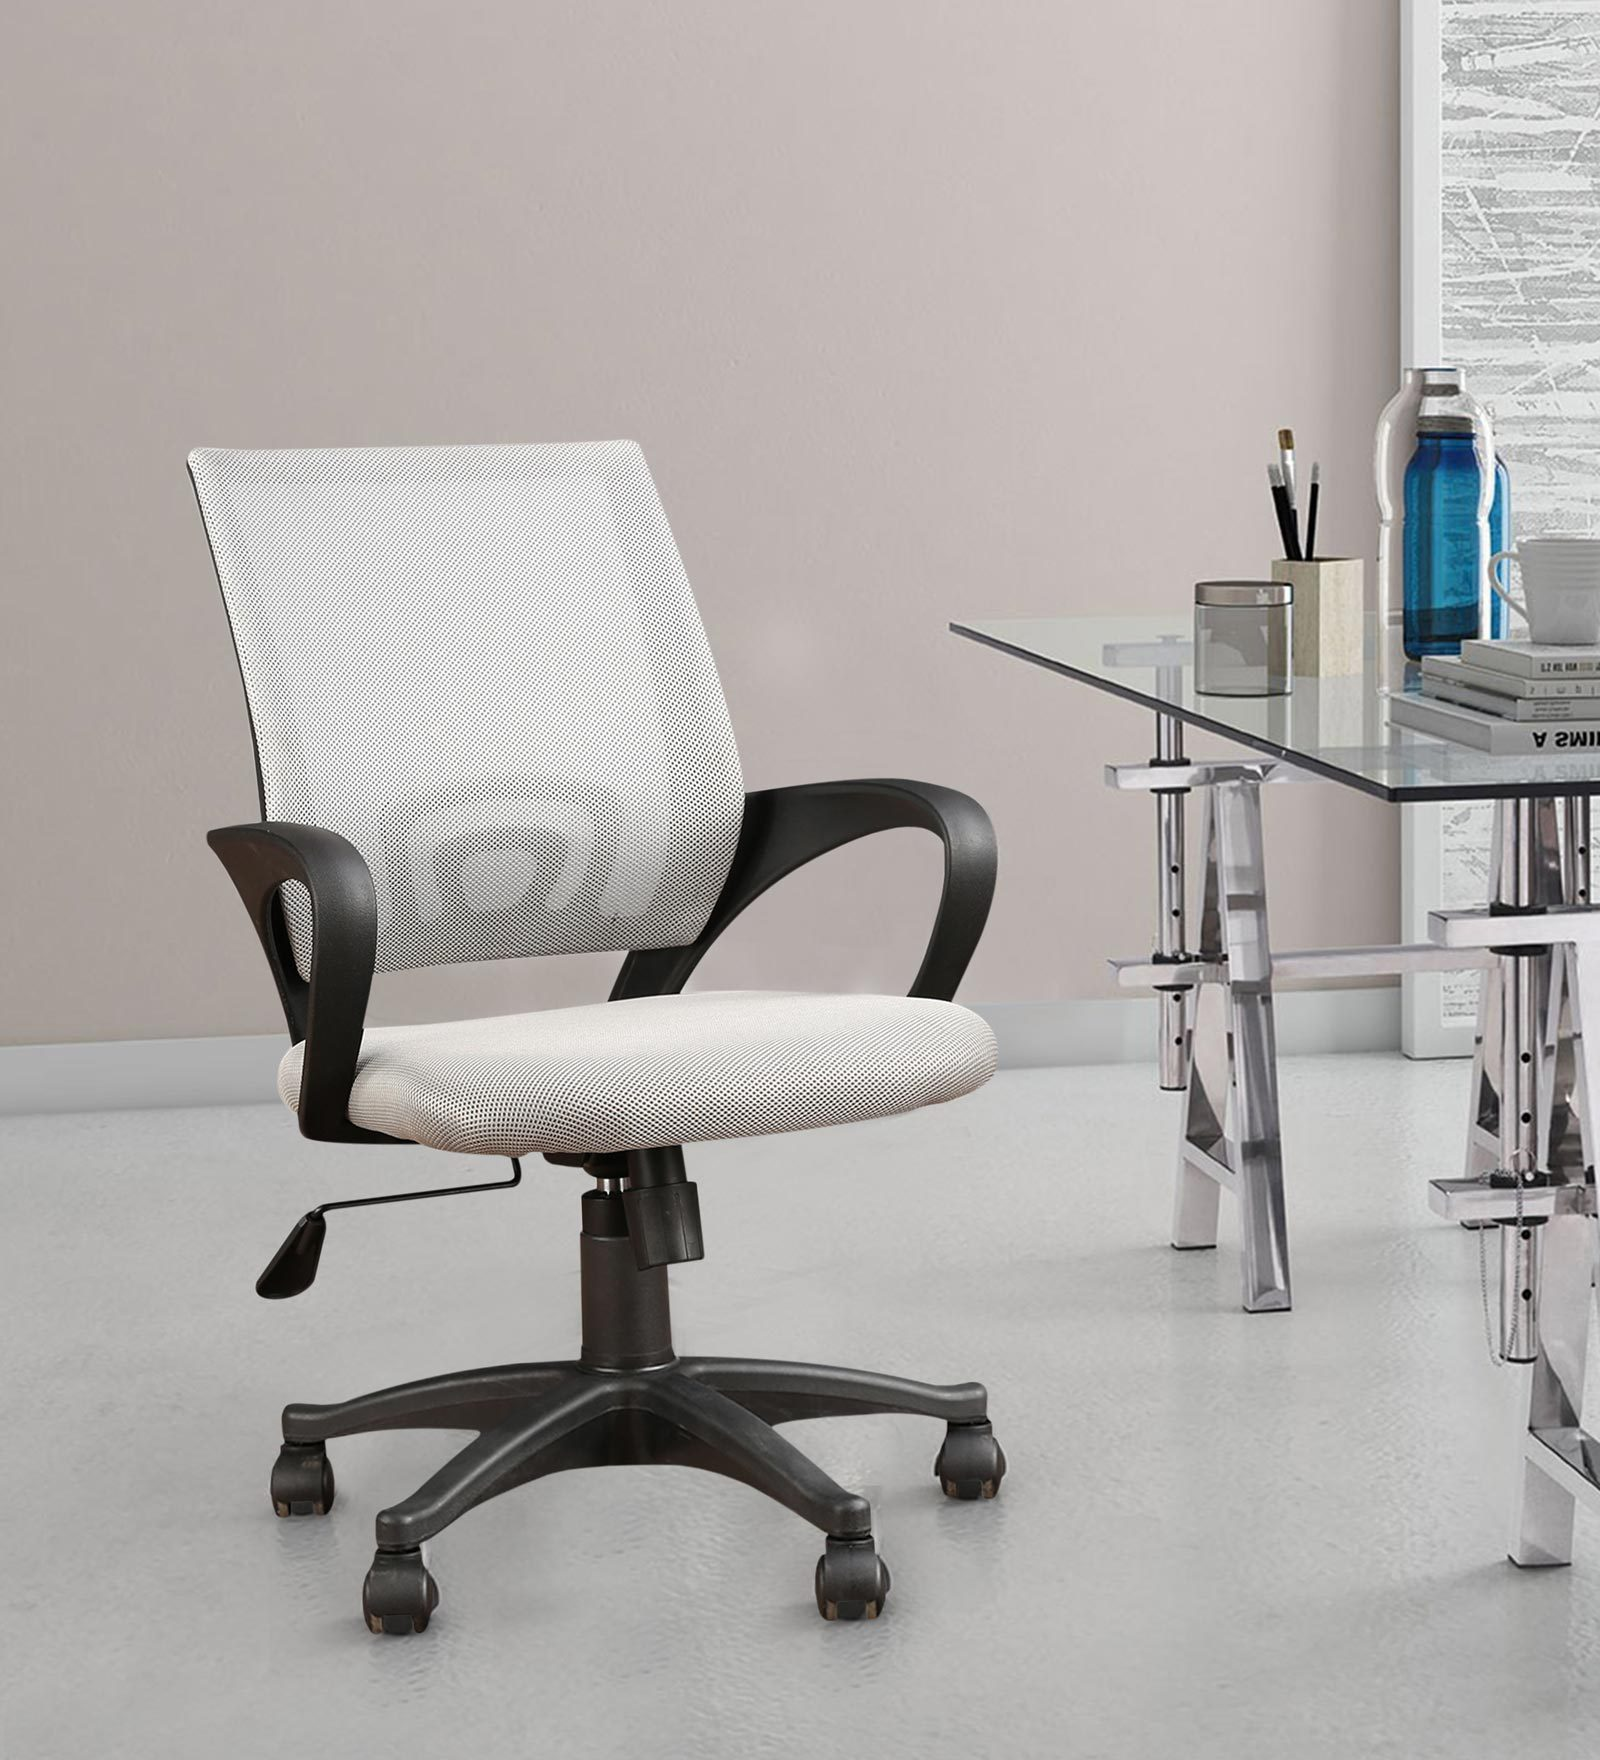Bolton Low Back Ergonomic Chair in Grey Colour by HomeTown: (136, 420, 1025, 1647)
